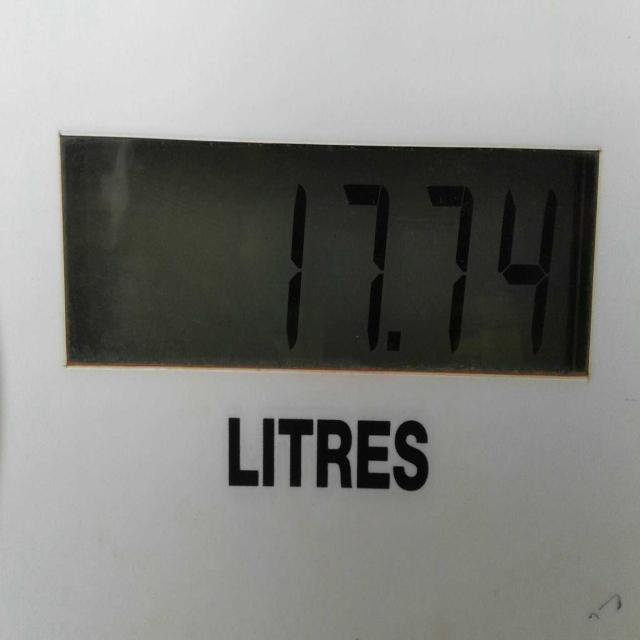.: (384, 324, 406, 363)
1: (277, 164, 314, 366)
4: (488, 181, 570, 374)
7: (418, 168, 480, 374), (333, 176, 392, 374)
